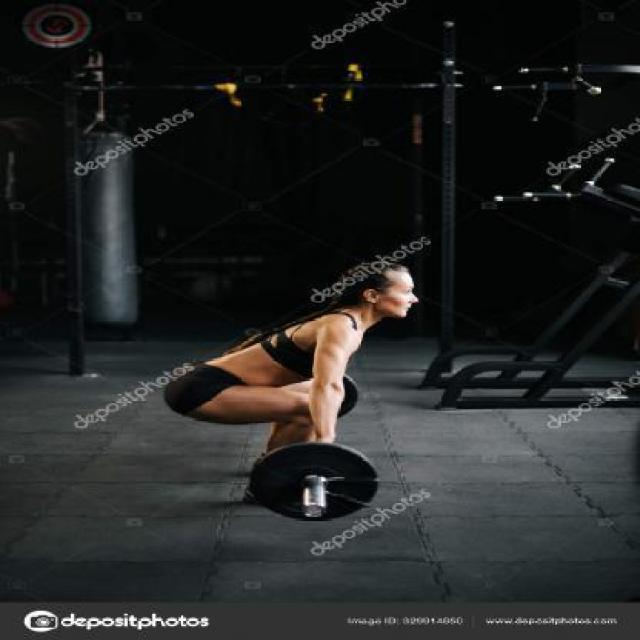barbell: (250, 433, 383, 529)
